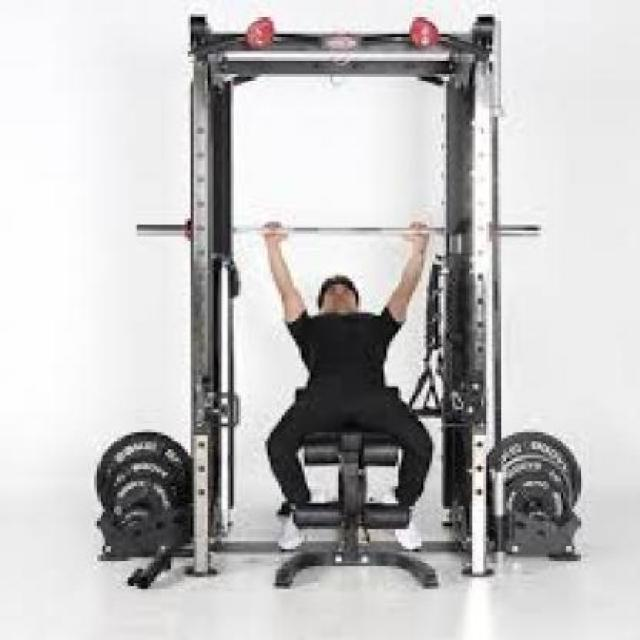smith machine: (138, 14, 542, 592)
